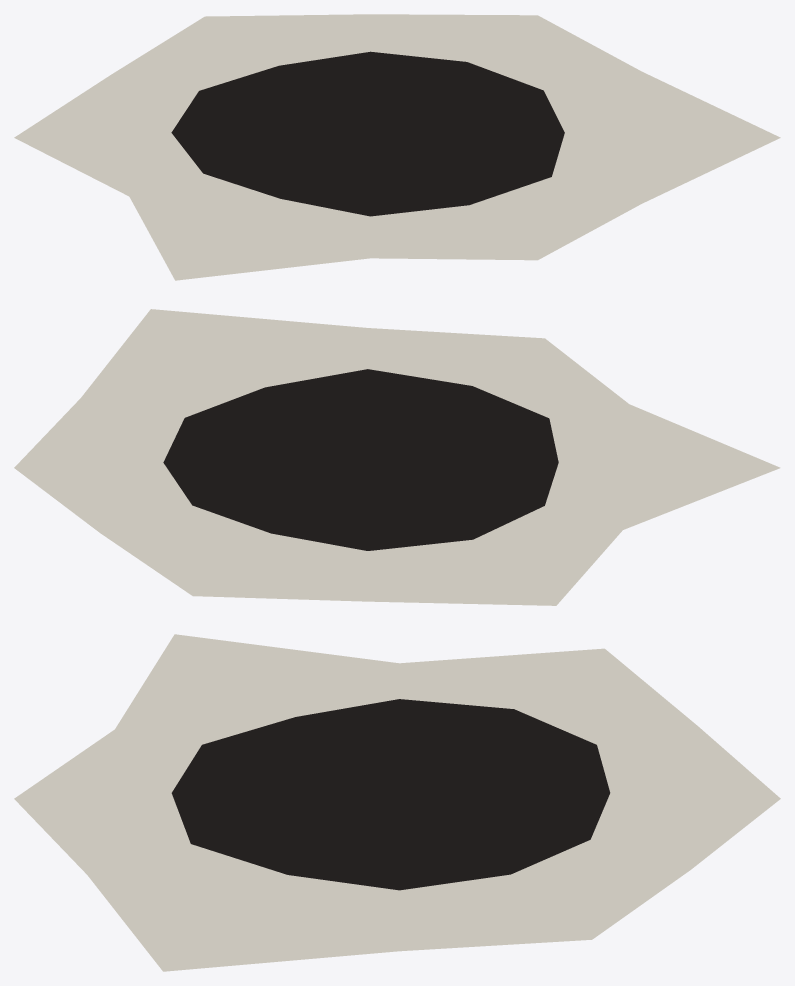
The model's file is hole_wall_03.obj.
3 views of the same model, one above another, from view 1: azimuth 30°, elevation 25°; view 2: azimuth 150°, elevation 25°; view 3: azimuth 270°, elevation 25° (orthographic). The views are drawn at different scales.
Size of the model in its own units: 0.0503 by 0.0004 by 0.0483.
